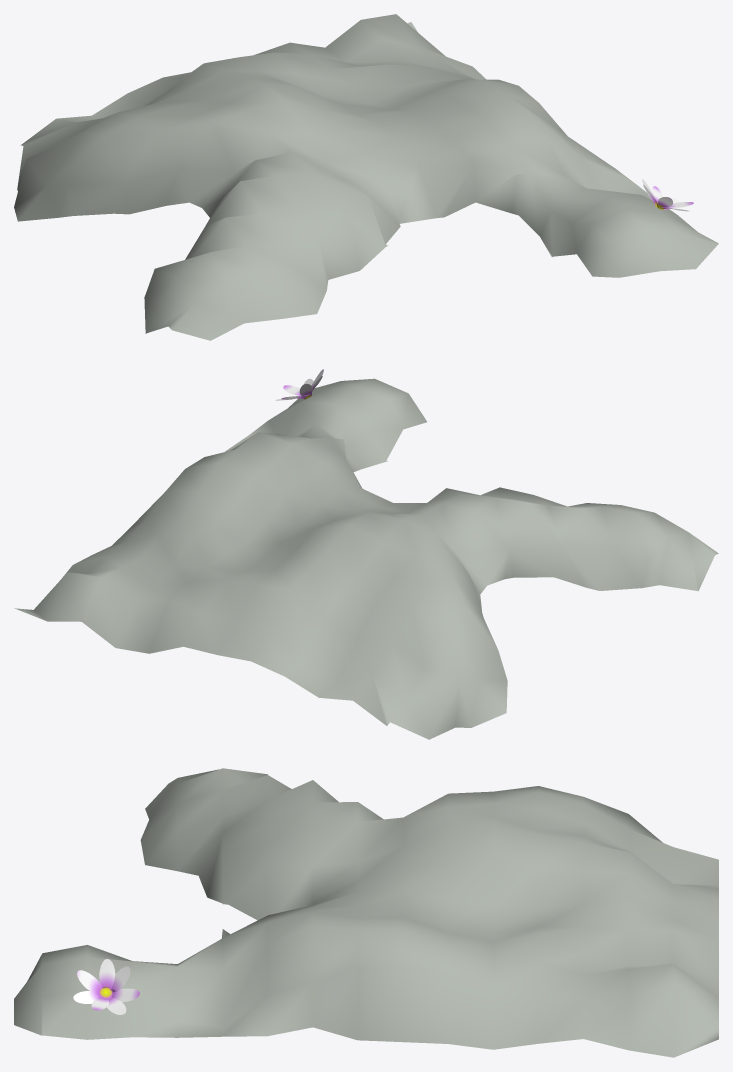
Rendered from 33_bush.FBX.
3 views of the same model, one above another, from view 1: azimuth 30°, elevation 25°; view 2: azimuth 150°, elevation 25°; view 3: azimuth 270°, elevation 25° (orthographic). The views are drawn at different scales.
Visible parts, largest first — view 1: 33_bush; view 2: 33_bush; view 3: 33_bush.
Boxes of the visible parts, x1,y1,x2,y2 form: 33_bush: [14, 14, 718, 340]; 33_bush: [14, 369, 718, 739]; 33_bush: [14, 768, 718, 1057].
Size of the model in its own units: 0.1651 by 0.1861 by 0.04.
